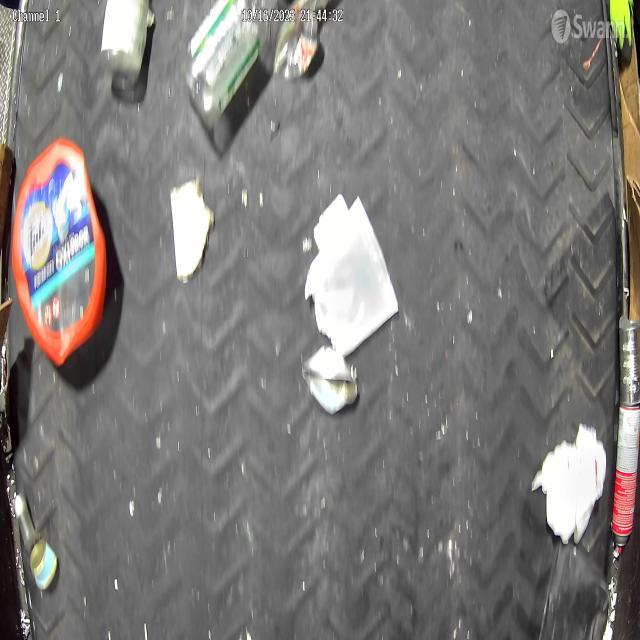can: (300, 347, 360, 415), (618, 317, 640, 407), (29, 536, 58, 590)
non_white_jug: (11, 136, 109, 370)
